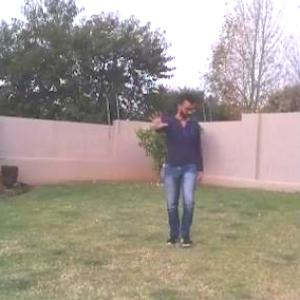follow_hand: (147, 105, 170, 133)
